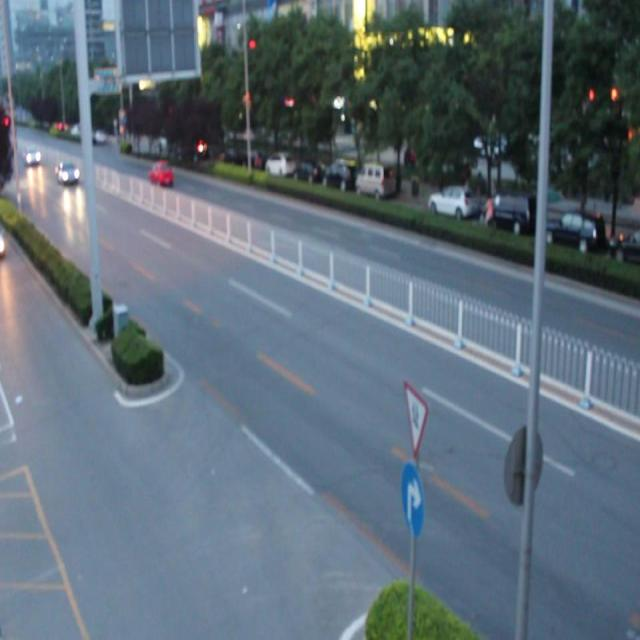car: (150, 160, 173, 186)
